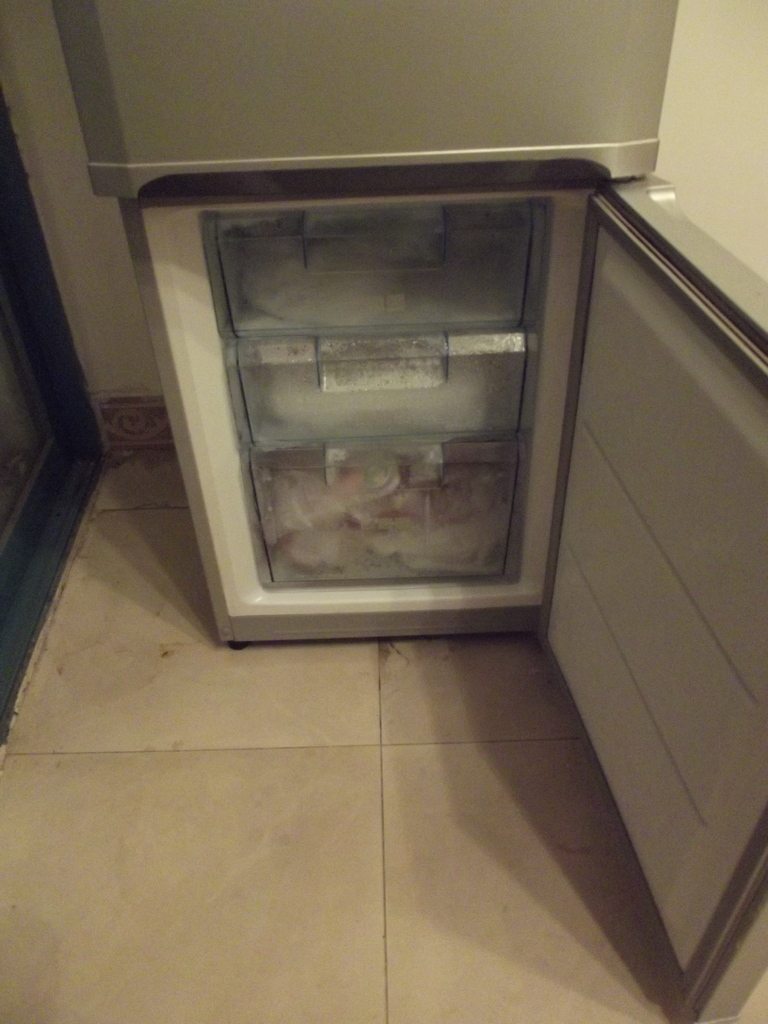handle: (118, 152, 614, 209)
refrigerator door: (597, 226, 768, 933), (98, 14, 658, 196)
